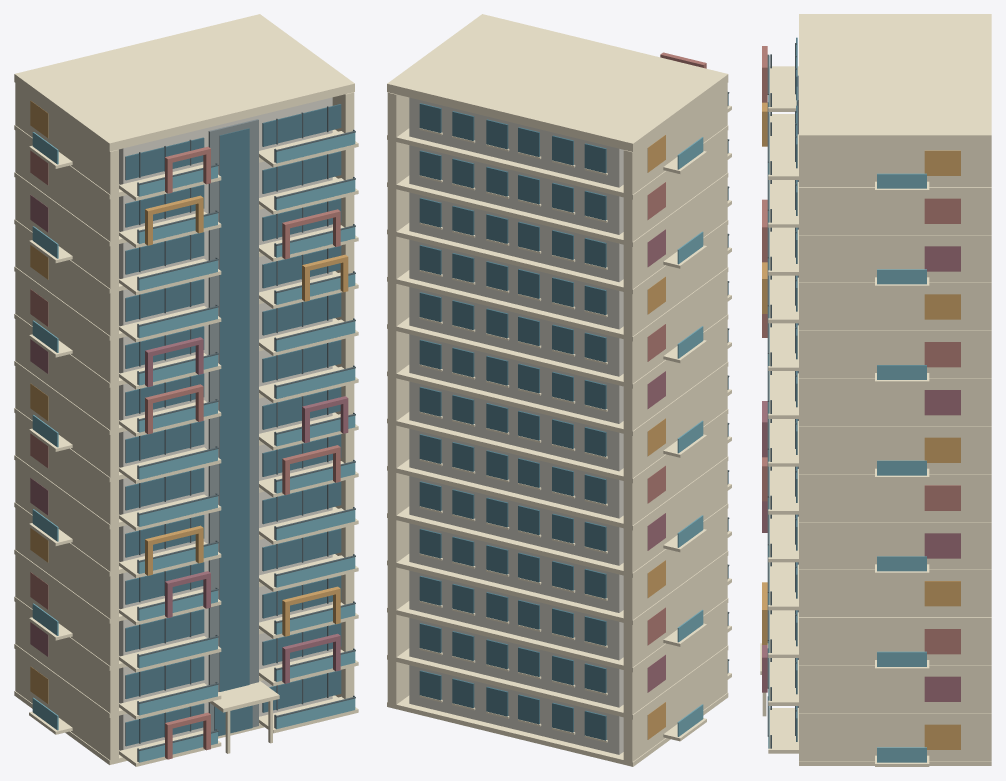
File: tower_13_storeys.glb
The picture shows the model from 3 angles, left to right: view 1: azimuth 30°, elevation 25°; view 2: azimuth 150°, elevation 25°; view 3: azimuth 270°, elevation 25°; orthographic projection.
Visible parts, largest first — view 1: GEO-outer fin, GEO-roof parapet, GEO-stair / central glazing strip, GEO-tower structural mass, GEO-central deep shadow spine, GEO-outer fin.001, GEO-window ribbon.010, GEO-window ribbon.020, GEO-window ribbon.002, GEO-window ribbon.004, GEO-window ribbon.018, GEO-window ribbon.012 (+80 smaller); view 2: GEO-tower structural mass, GEO-outer fin, GEO-roof parapet, GEO-outer fin.001, GEO-floor slab.005, GEO-floor slab.009, GEO-floor slab.001, GEO-floor slab.003, GEO-floor slab.011, GEO-floor slab.007, GEO-floor slab.008, GEO-floor slab.006 (+57 smaller); view 3: GEO-outer fin.001, GEO-roof parapet, GEO-balcony slab.007, GEO-balcony slab.009, GEO-balcony slab.019, GEO-balcony slab.021, GEO-balcony slab.011, GEO-balcony slab.001, GEO-balcony slab.023, GEO-balcony slab.003, GEO-balcony slab.005, GEO-balcony slab.013 (+38 smaller).
Boxes of the visible parts, <box> form: GEO-outer fin: <box>15,83,118,764</box>; GEO-roof parapet: <box>14,14,354,151</box>; GEO-stair / central glazing strip: <box>219,128,249,691</box>; GEO-tower structural mass: <box>119,97,332,750</box>; GEO-central deep shadow spine: <box>208,119,258,731</box>; GEO-outer fin.001: <box>332,92,354,698</box>; GEO-window ribbon.010: <box>125,467,204,510</box>; GEO-window ribbon.020: <box>125,232,204,274</box>; GEO-window ribbon.002: <box>125,656,204,698</box>; GEO-window ribbon.004: <box>125,609,204,651</box>; GEO-window ribbon.018: <box>125,279,204,321</box>; GEO-window ribbon.012: <box>125,421,204,463</box>; GEO-tower structural mass: <box>409,97,623,754</box>; GEO-outer fin: <box>623,83,727,762</box>; GEO-roof parapet: <box>387,14,728,151</box>; GEO-outer fin.001: <box>387,92,409,708</box>; GEO-floor slab.005: <box>387,456,728,530</box>; GEO-floor slab.009: <box>387,267,728,341</box>; GEO-floor slab.001: <box>387,645,728,719</box>; GEO-floor slab.003: <box>387,551,728,624</box>; GEO-floor slab.011: <box>387,172,728,246</box>; GEO-floor slab.007: <box>387,361,728,435</box>; GEO-floor slab.008: <box>387,314,728,388</box>; GEO-floor slab.006: <box>387,409,728,483</box>; GEO-outer fin.001: <box>799,144,991,760</box>; GEO-roof parapet: <box>799,14,991,143</box>; GEO-balcony slab.007: <box>768,564,798,610</box>; GEO-balcony slab.009: <box>768,516,798,562</box>; GEO-balcony slab.019: <box>768,277,798,323</box>; GEO-balcony slab.021: <box>768,229,798,275</box>; GEO-balcony slab.011: <box>768,469,798,514</box>; GEO-balcony slab.001: <box>768,708,798,753</box>; GEO-balcony slab.023: <box>768,182,798,227</box>; GEO-balcony slab.003: <box>768,660,798,705</box>; GEO-balcony slab.005: <box>768,612,798,657</box>; GEO-balcony slab.013: <box>768,421,798,466</box>.
Bounding box in the file's own units: 19.24 × 41.14 × 13.69.
